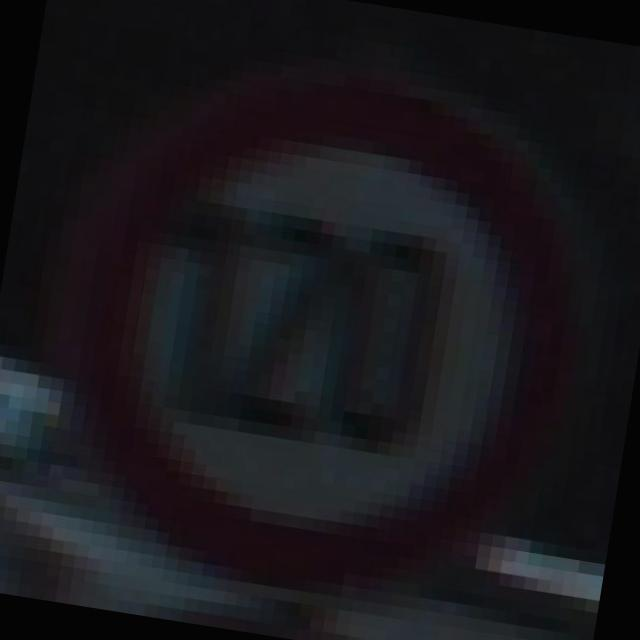Ograniczenie predkosci do 120: (48, 51, 590, 612)
